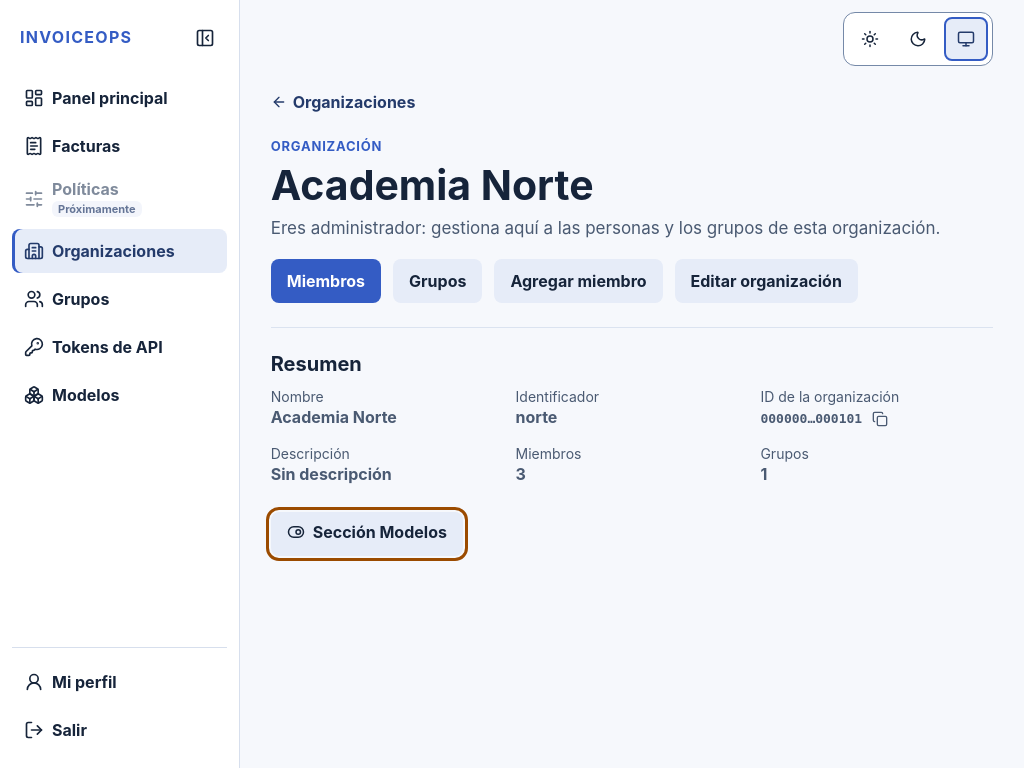
Test: MLOPS-05 organization switch for the Models section › keeps focus on the same switch after turning it off (CR-580)
This screenshot has width=1024, height=768.
Click the switch labelled "Sección Modelos": (367, 534) [271, 512, 463, 556]
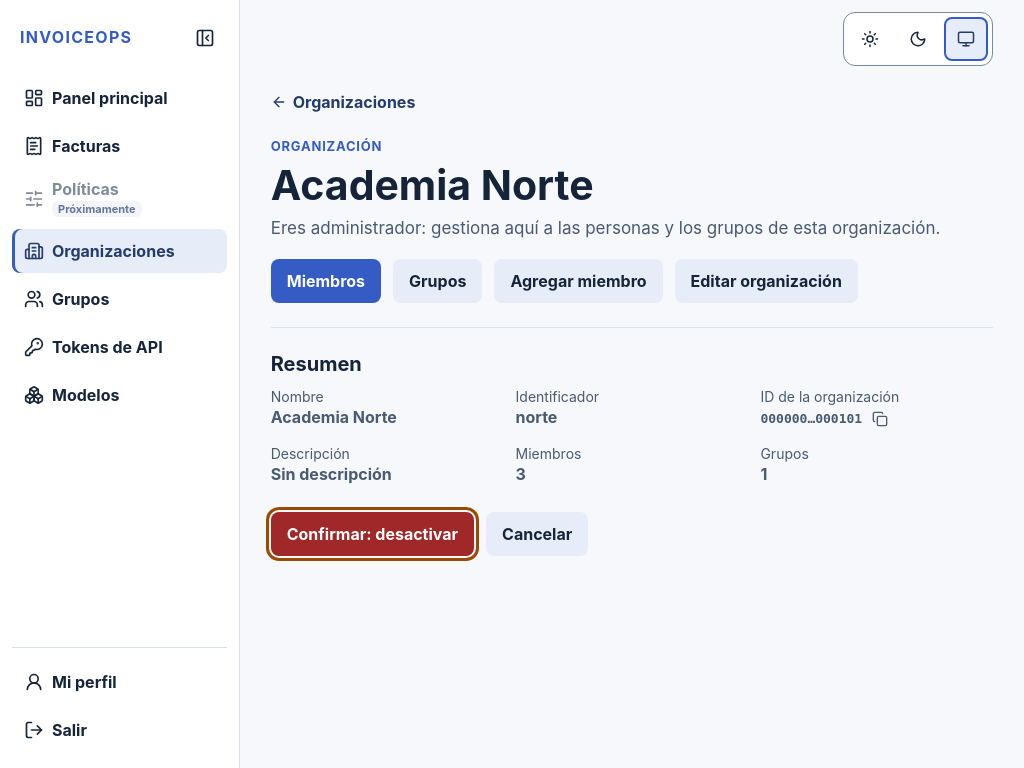
Click the button "Confirmar: desactivar": (372, 534) [271, 512, 474, 556]
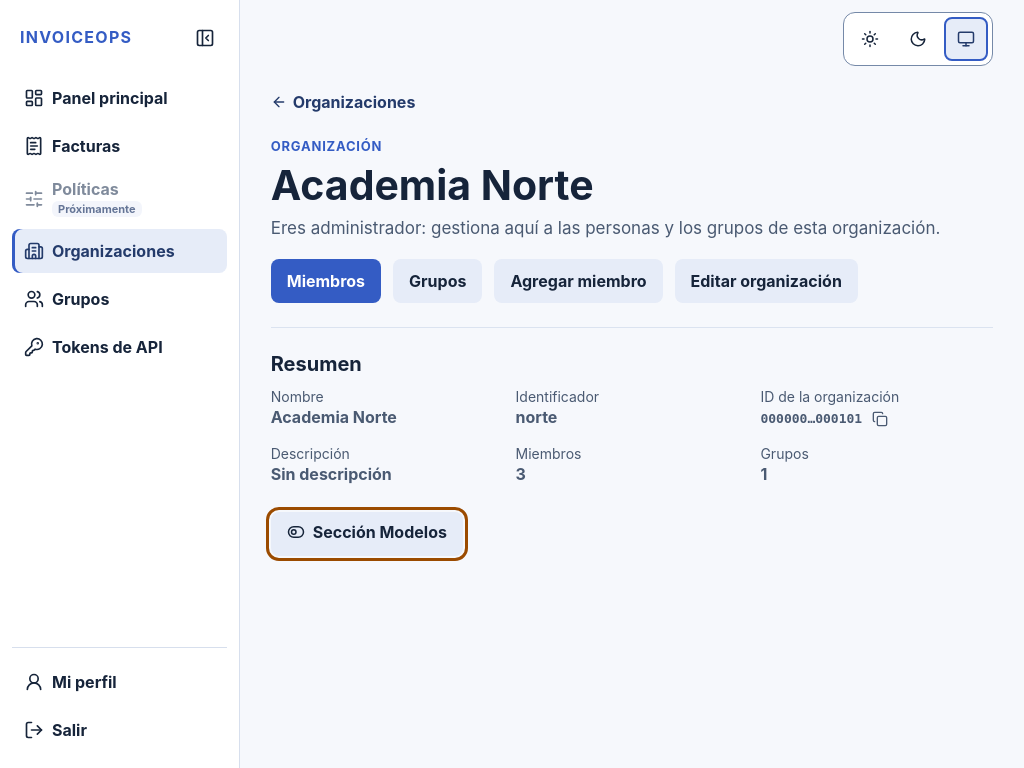
Expected: the number of switches is 1, [271, 512, 463, 556]
